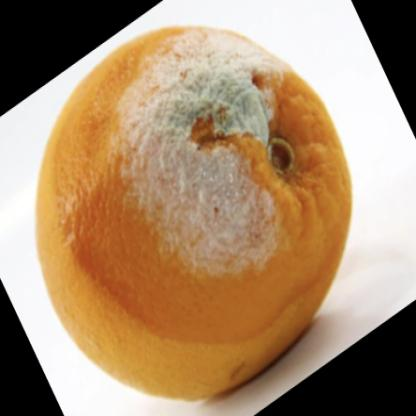rotten: (35, 25, 353, 398)
